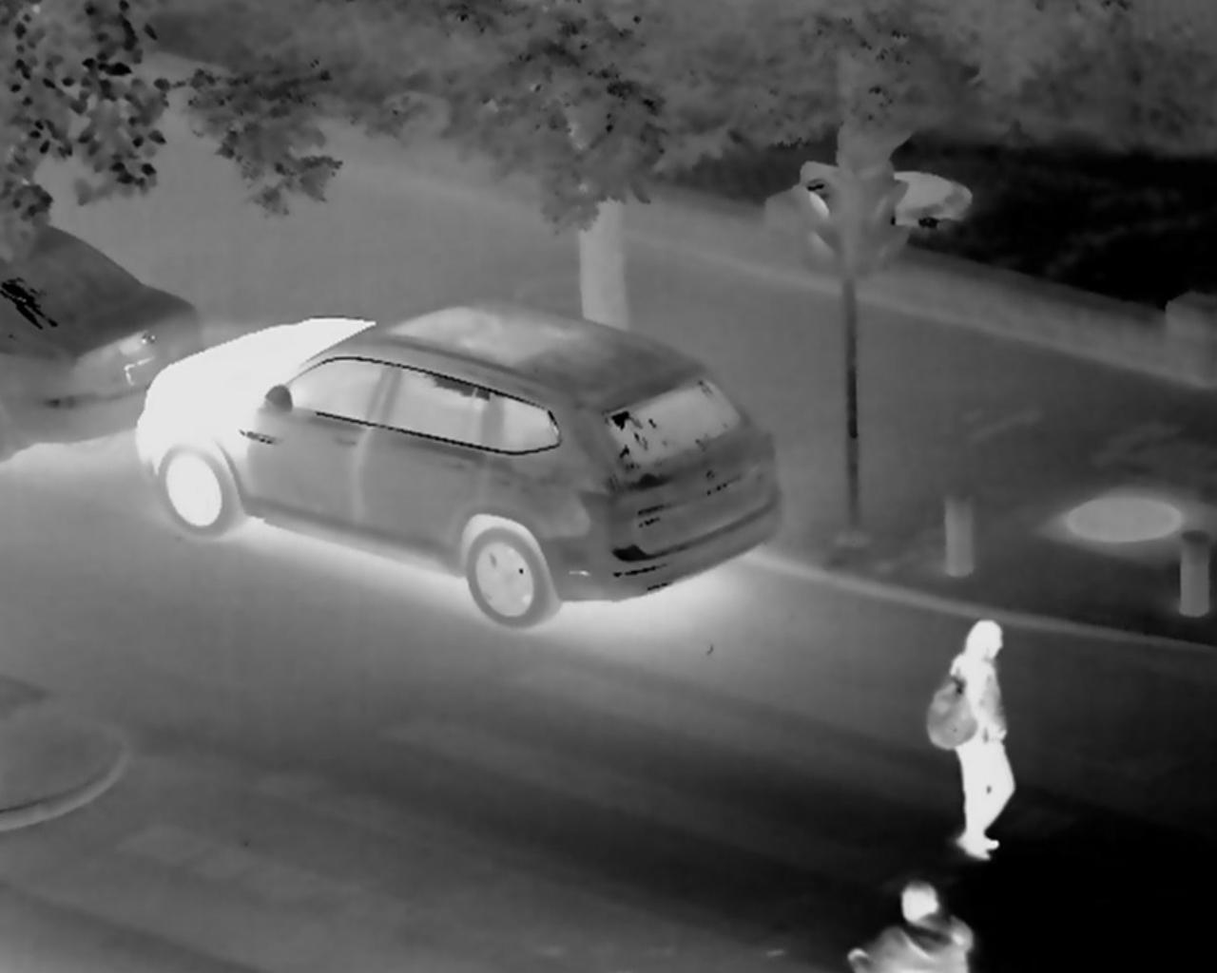person: (937, 615, 1062, 857), (889, 863, 955, 973)
